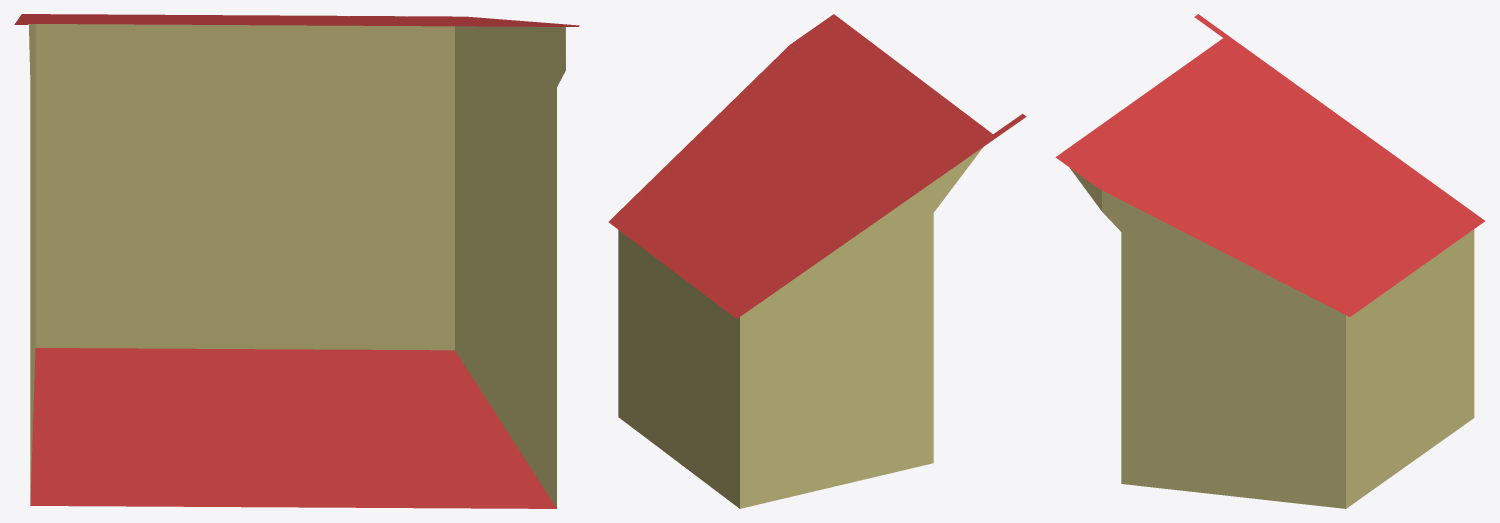
3 renders of one model, left to right at view 1: azimuth 30°, elevation 25°; view 2: azimuth 150°, elevation 25°; view 3: azimuth 270°, elevation 25°, orthographic. The views are drawn at different scales.
Bounding box in the file's own units: 12.01 × 12.96 × 10.99.
